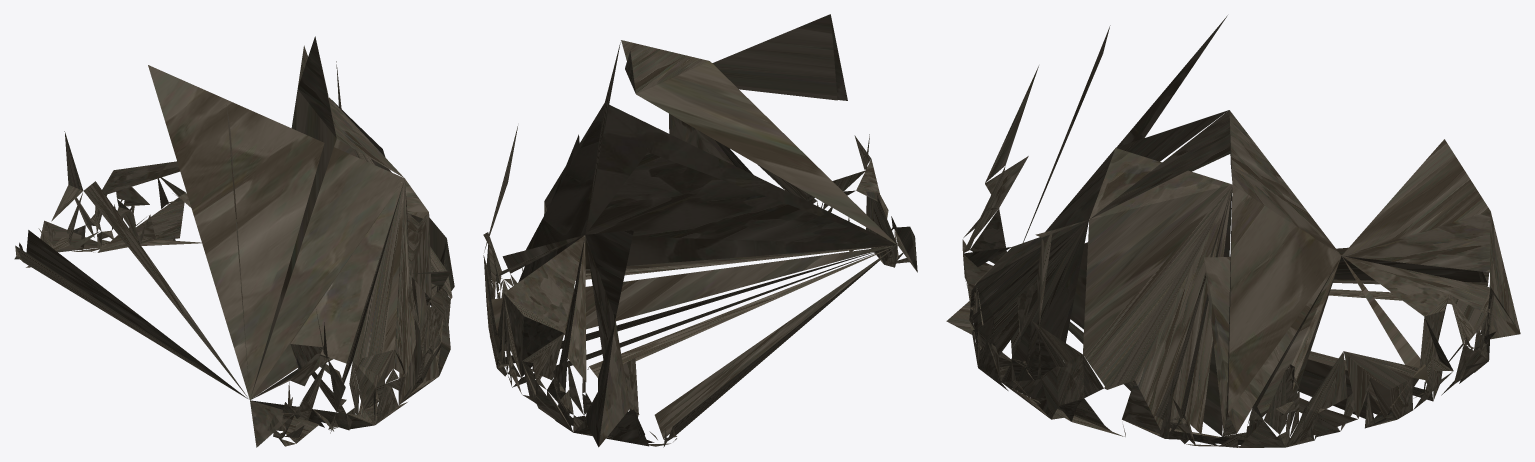
File: nat_flowers_a_LOD1.glb
3 views of the same model, side by side, from view 1: azimuth 30°, elevation 25°; view 2: azimuth 150°, elevation 25°; view 3: azimuth 270°, elevation 25° (orthographic). The views are drawn at different scales.
Parts seen in each view (by area): view 1: geometry_0; view 2: geometry_0; view 3: geometry_0.
Boxes of the visible parts, x1=… form: geometry_0: x1=14, y1=36, x2=454, y2=447; geometry_0: x1=483, y1=14, x2=917, y2=447; geometry_0: x1=946, y1=15, x2=1520, y2=447.
Bounding box in the file's own units: 0.5078 × 0.5 × 0.8566.
Materials: 1 (1 with a texture image).
